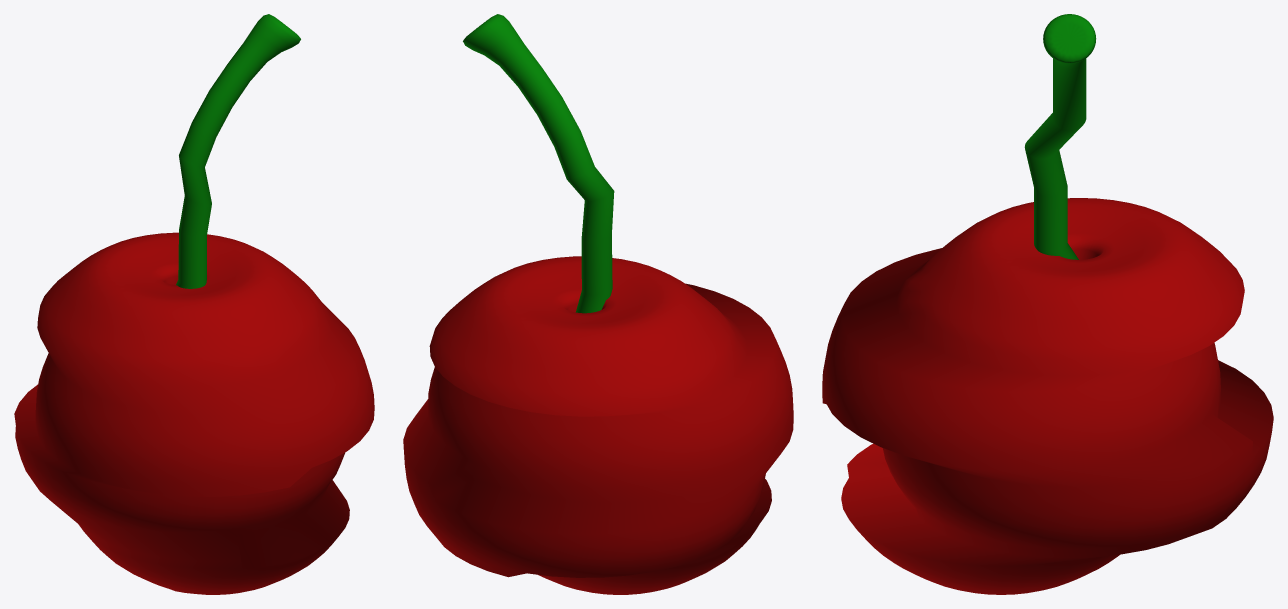
The model's file is bentcherry.fbx.
3 views of the same model, side by side, from view 1: azimuth 30°, elevation 25°; view 2: azimuth 150°, elevation 25°; view 3: azimuth 270°, elevation 25° (orthographic). The views are drawn at different scales.
Visible parts, largest first — view 1: pSphere1; view 2: pSphere1; view 3: pSphere1.
Part boxes in pixels (x1,y1,x2,y2): pSphere1: [14, 14, 374, 594]; pSphere1: [403, 14, 793, 594]; pSphere1: [822, 14, 1273, 594].
Bounding box in the file's own units: 1.98 × 3.32 × 2.24.
